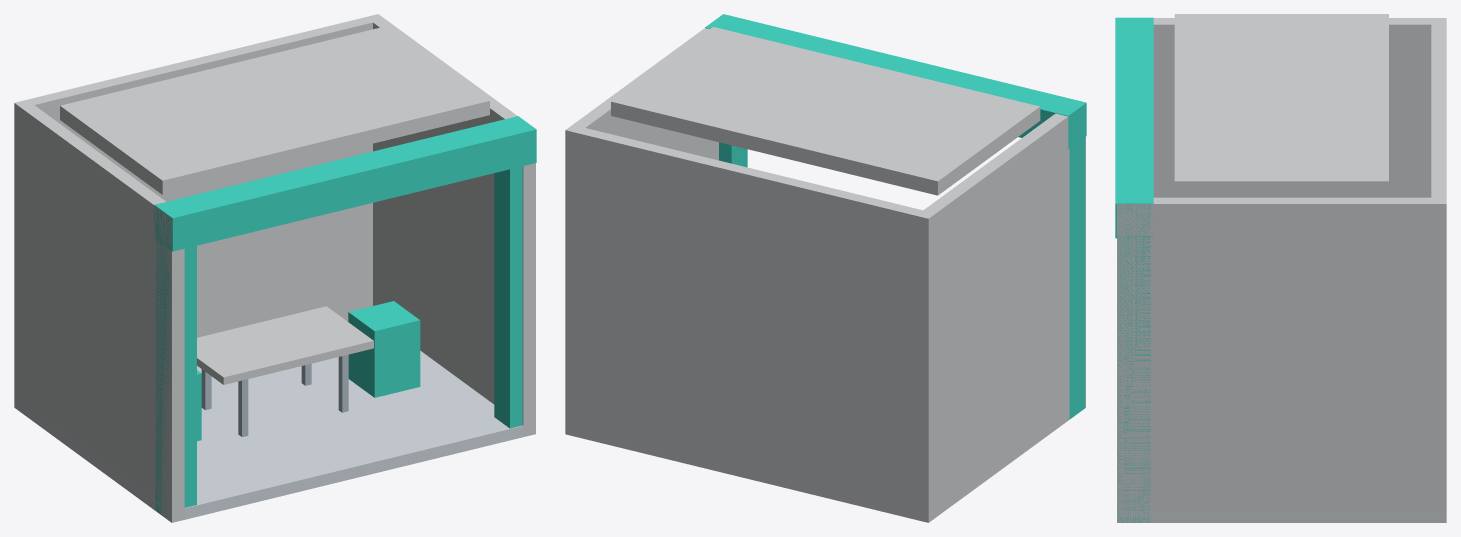
3 renders of one model, left to right at view 1: azimuth 30°, elevation 25°; view 2: azimuth 150°, elevation 25°; view 3: azimuth 270°, elevation 25°, orthographic. The views are drawn at different scales.
Visible parts, largest first — view 1: Exhibition Booth Concept; view 2: Exhibition Booth Concept; view 3: Exhibition Booth Concept.
Part boxes in pixels (left/top/right/bottom): Exhibition Booth Concept: left=14, top=14, right=536, bottom=522; Exhibition Booth Concept: left=565, top=14, right=1086, bottom=522; Exhibition Booth Concept: left=1115, top=14, right=1446, bottom=522.
Bounding box in the file's own units: 4 × 3.34 × 3.01.
